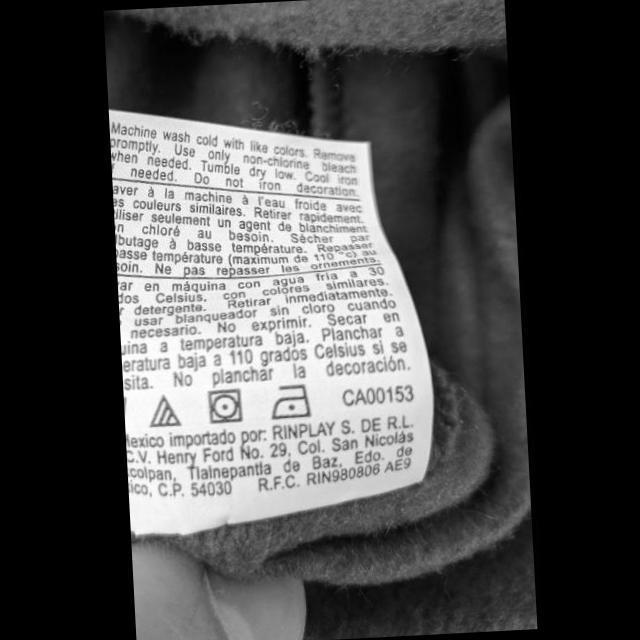iron_low: (266, 379, 312, 422)
non_chlorine_bleach: (143, 390, 182, 433)
tumble_dry_low: (204, 385, 245, 427)
